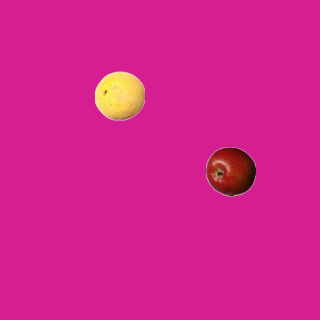Apple Braeburn: (205, 146, 255, 196)
Cantaloupe 1: (94, 70, 144, 120)
